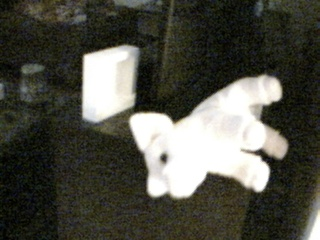piggy: (127, 73, 290, 202)
